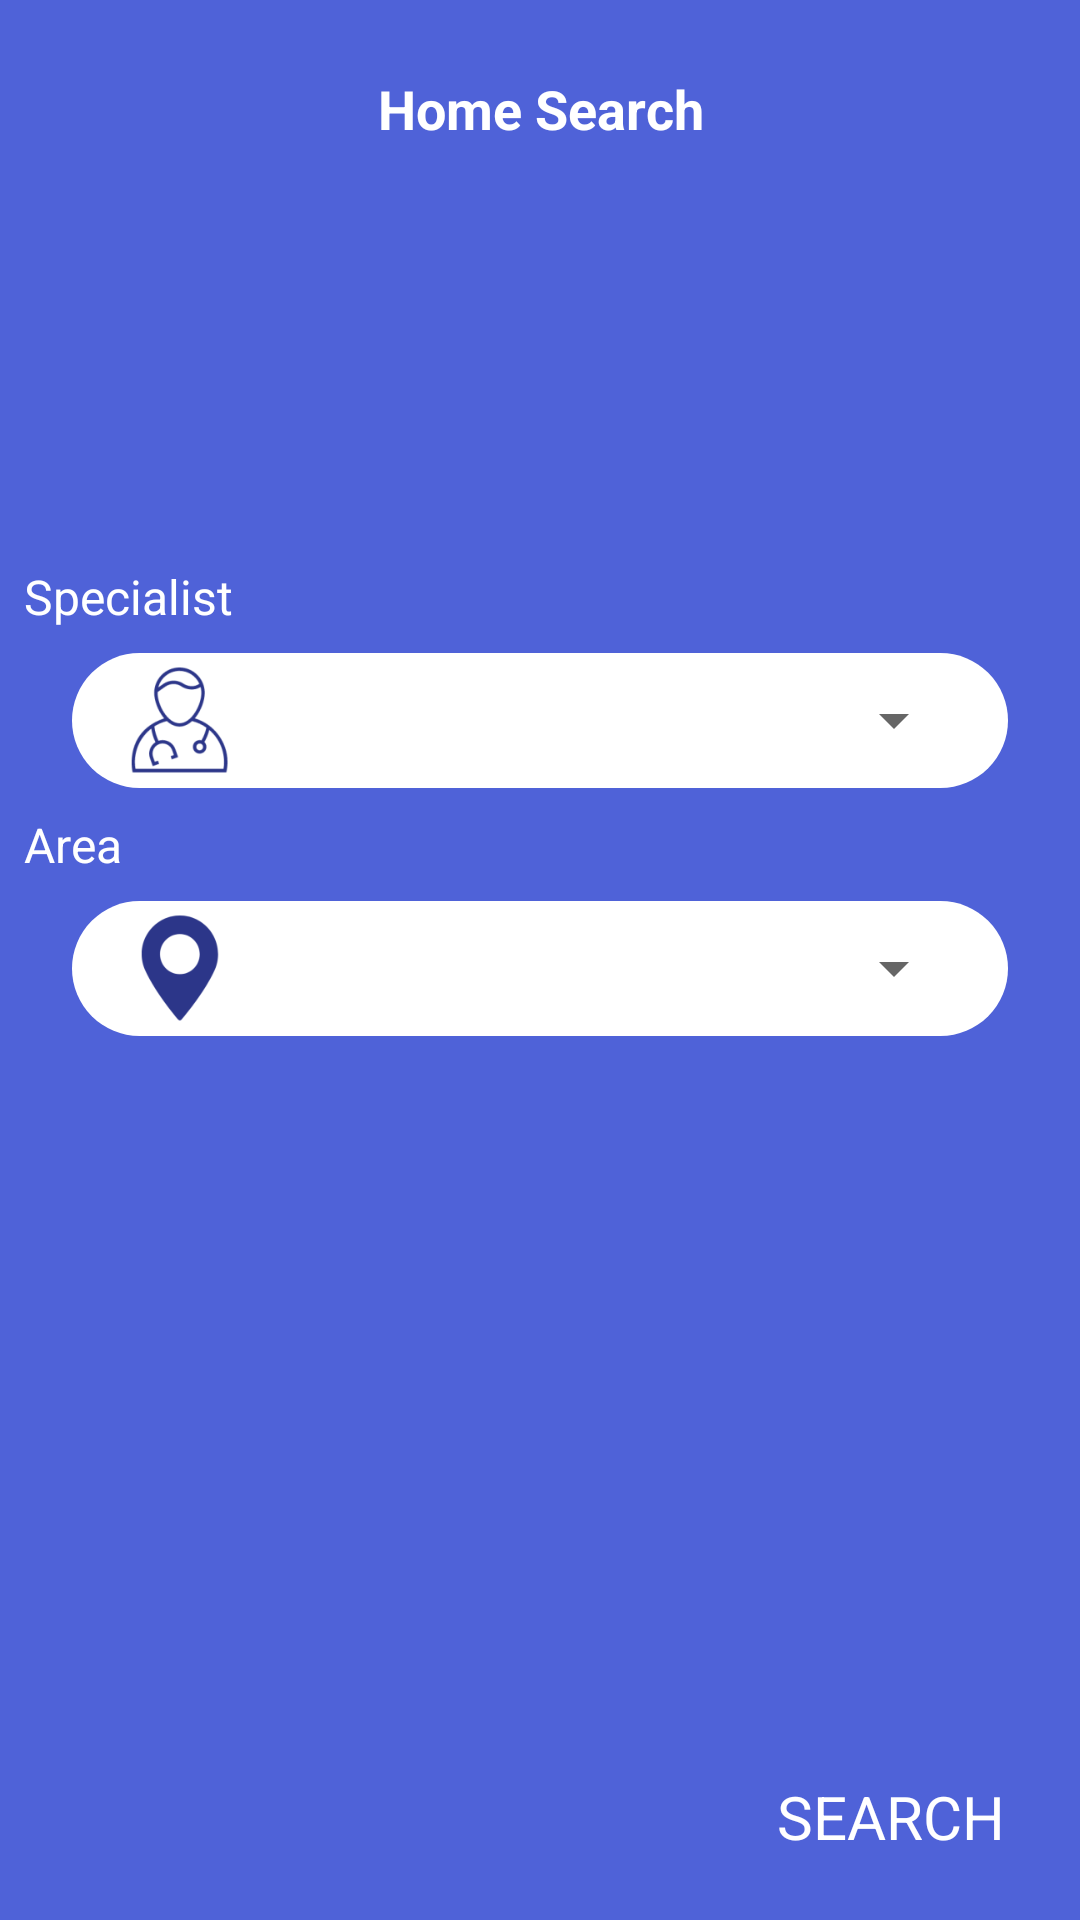

Icon click points for this 1080*1920 phone screenshot, format [x,y]:
doctor: [179,720]
pin: [180,968]
